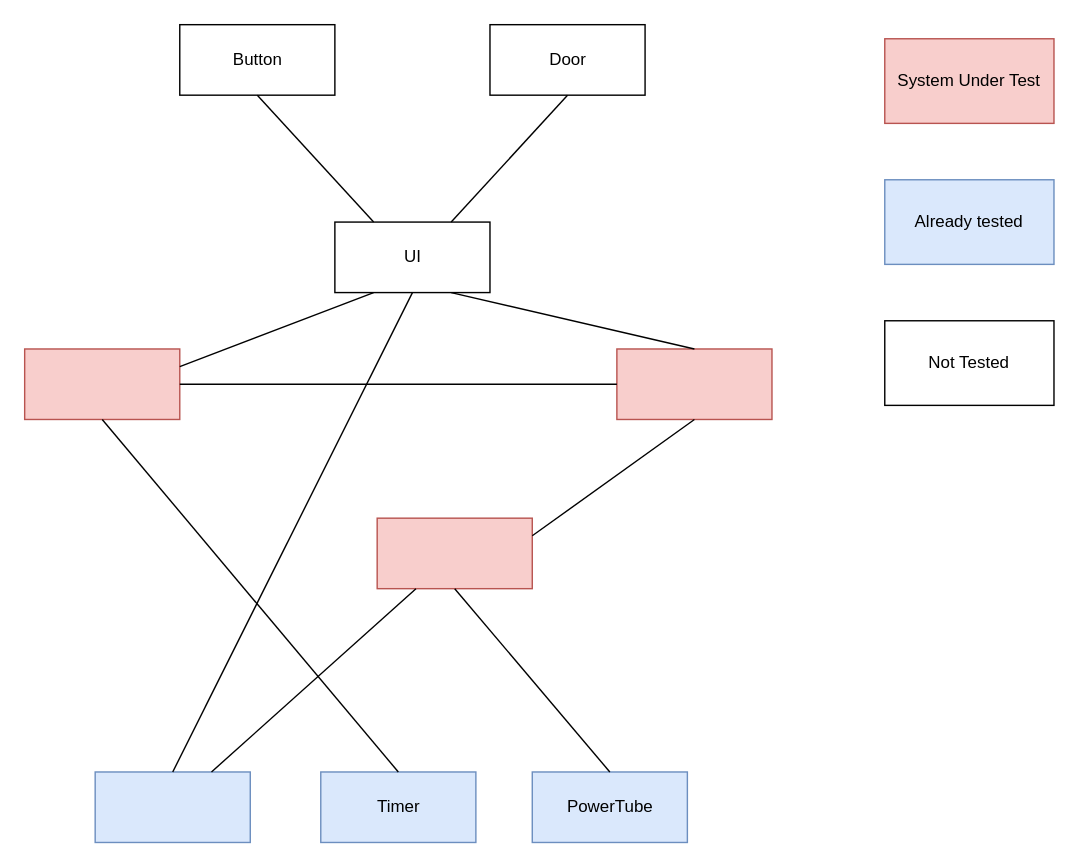
This 1079x867 diagram has some shape labels left out. The shapes that lost their labels are listed below. From the top down, each one's centre as x and y in pixels, then its label:
the point at 101,383: CookController
the point at 693,383: Display
the point at 454,553: Output
the point at 172,806: Light
